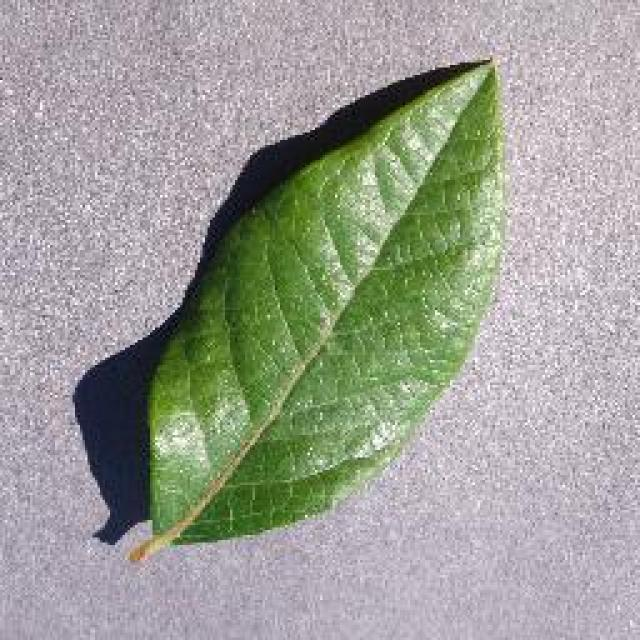Blu_healthy: (183, 148, 492, 488)
